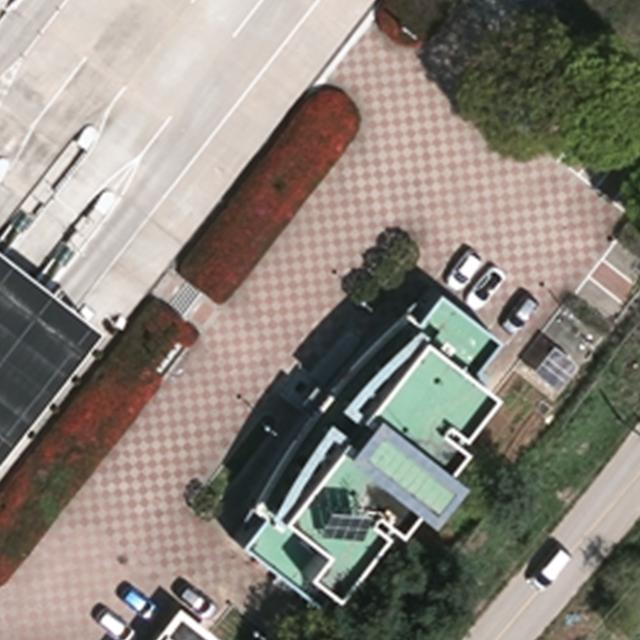panel: (323, 510, 374, 545)
